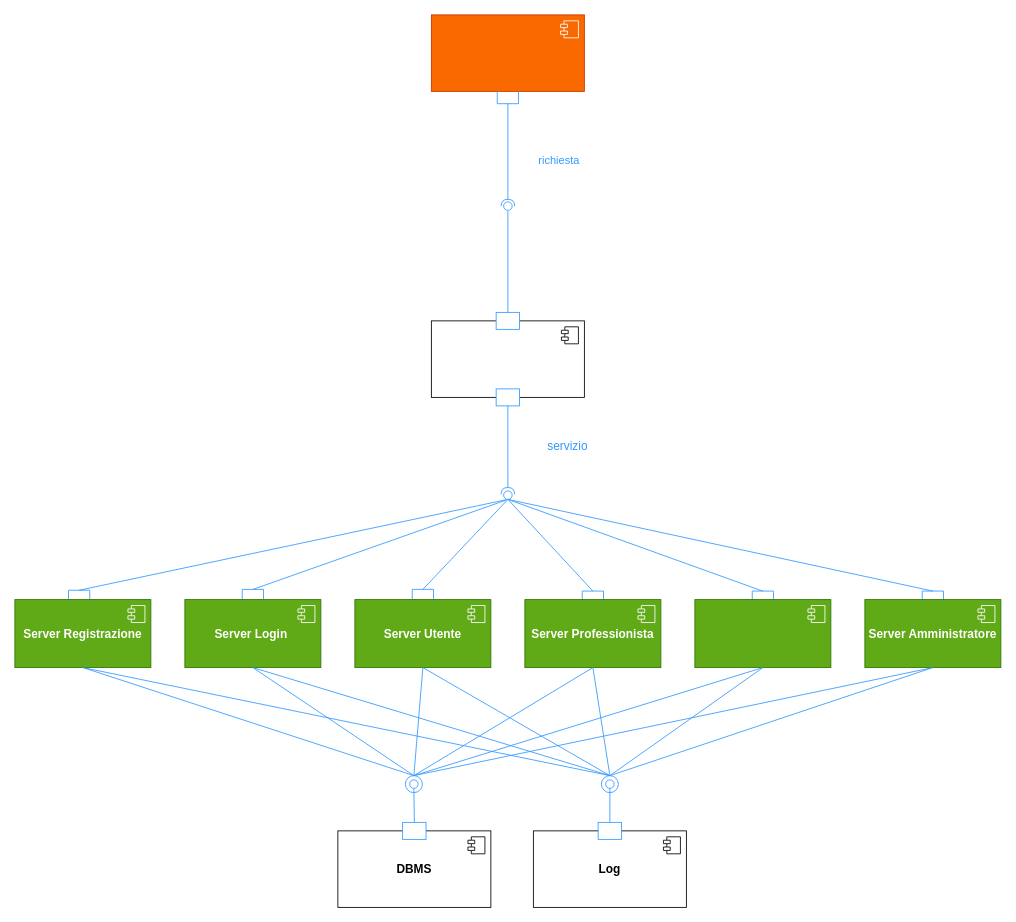
Image size: 1016x922. Some labels were removed from this diagram. The box of each missing label's shape, as (x1, y1, x2, y2) in pixels:
Broker: (431, 320, 584, 397)
Client: (431, 14, 584, 91)
Server Assistenza: (694, 599, 831, 668)
